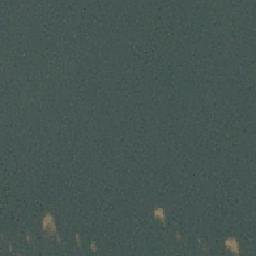debris: (41, 212, 57, 237), (151, 206, 165, 226), (223, 235, 239, 252)
